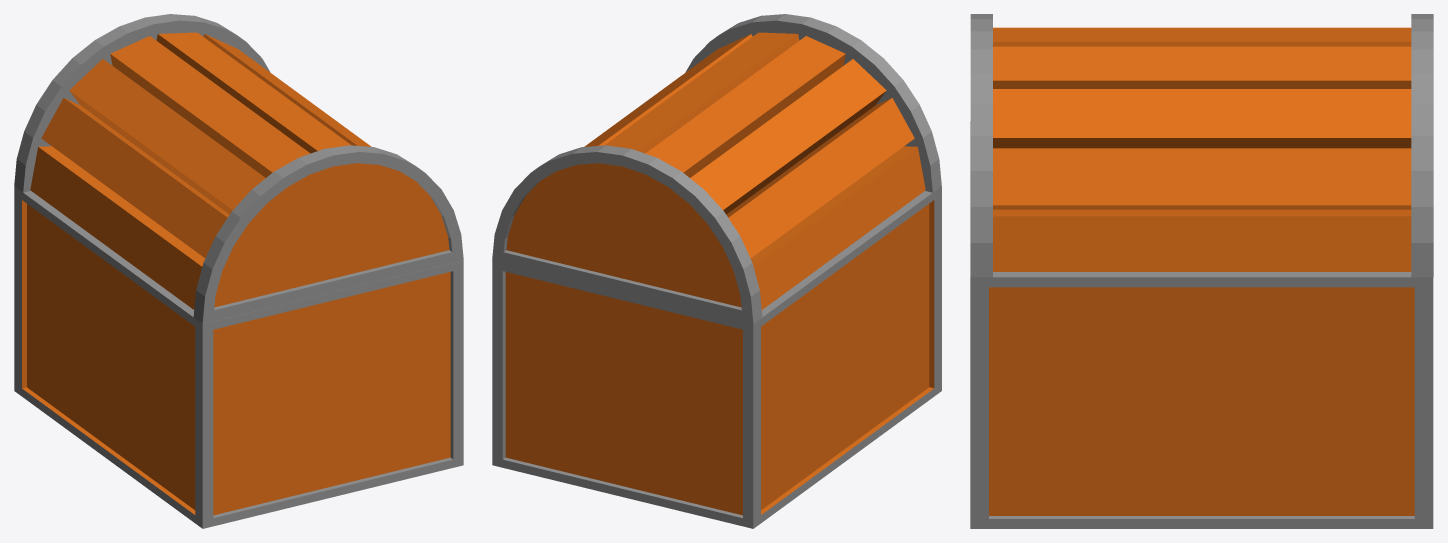
File: Chest1.fbx
The picture shows the model from 3 angles, left to right: view 1: azimuth 30°, elevation 25°; view 2: azimuth 150°, elevation 25°; view 3: azimuth 270°, elevation 25°; orthographic projection. The views are drawn at different scales.
Parts seen in each view (by area): view 1: Bottom, Planks, Top; view 2: Bottom, Planks, Top; view 3: Bottom, Planks, Top.
Boxes of the visible parts, box(x1,y1,x2,y2) form: Bottom: box(14, 186, 463, 528); Planks: box(30, 32, 371, 309); Top: box(14, 14, 463, 323); Bottom: box(492, 186, 941, 528); Planks: box(584, 32, 925, 309); Top: box(492, 14, 941, 323); Bottom: box(970, 121, 1433, 528); Planks: box(993, 27, 1411, 271); Top: box(970, 14, 1433, 277).
Bounding box in the file's own units: 160 × 200 × 200.
